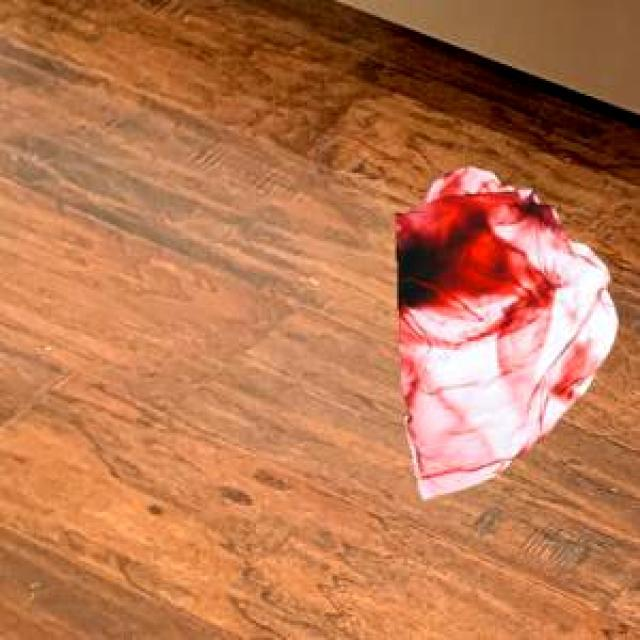Plastic_Bag: (392, 165, 614, 496)
